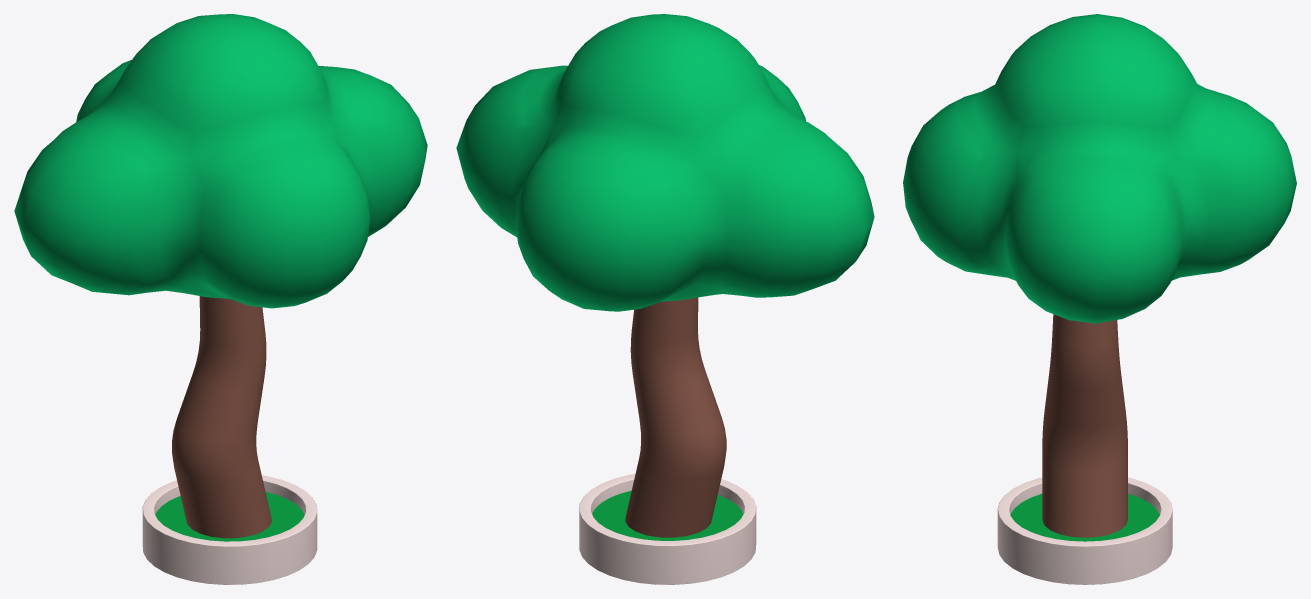
File: City_3_Tree_1.glb
3 views of the same model, side by side, from view 1: azimuth 30°, elevation 25°; view 2: azimuth 150°, elevation 25°; view 3: azimuth 270°, elevation 25° (orthographic).
Parts seen in each view (by area): view 1: City_3_Tree_1; view 2: City_3_Tree_1; view 3: City_3_Tree_1.
Boxes of the visible parts, x1,y1,x2,y2 form: City_3_Tree_1: [14, 14, 427, 584]; City_3_Tree_1: [456, 14, 874, 584]; City_3_Tree_1: [903, 14, 1296, 584].
Size of the model in its own units: 6.38 by 8.06 by 5.51.
Materials: 1 (1 with a texture image).
